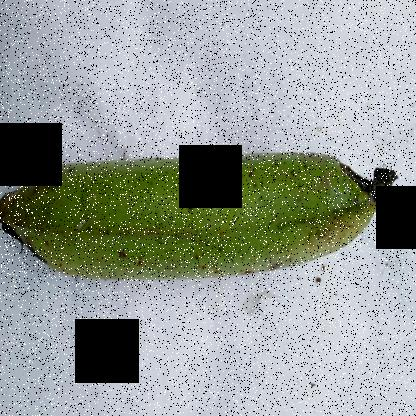rotten: (322, 139, 396, 227), (0, 207, 63, 282)
unripe: (0, 126, 402, 302)
